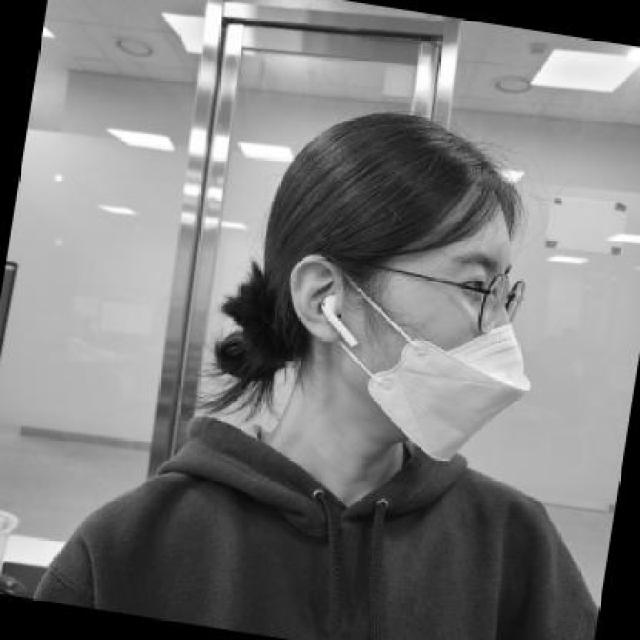earphone: (317, 285, 371, 354)
